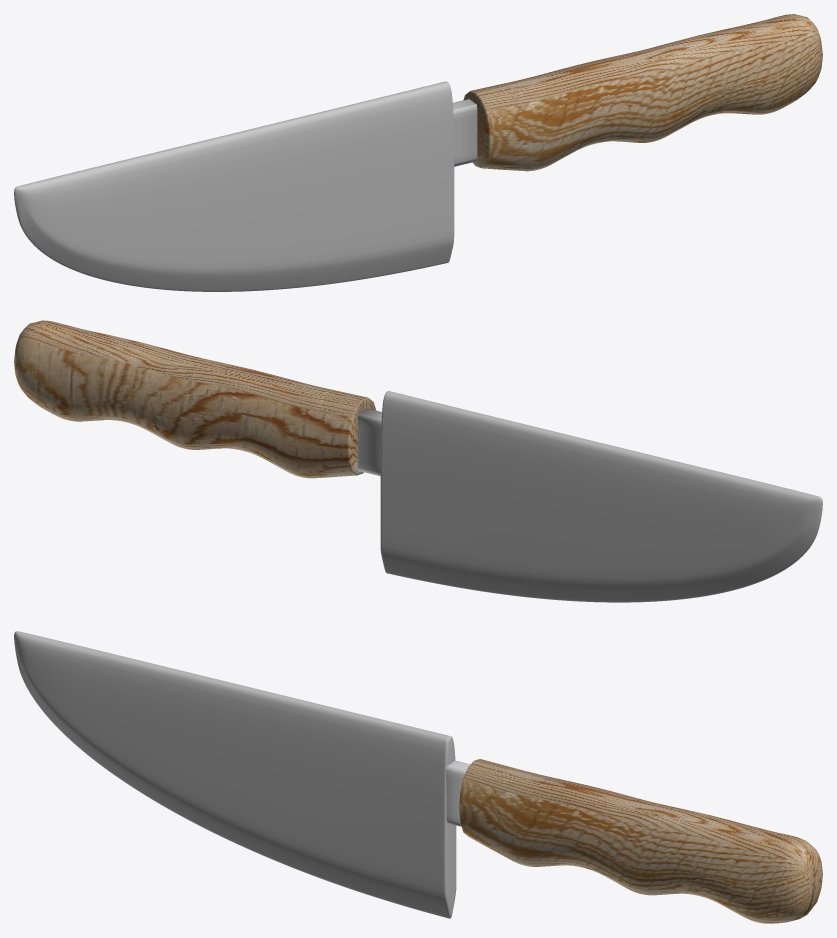
Rendered from knife.fbx.
3 renders of one model, top to bottom at view 1: azimuth 30°, elevation 25°; view 2: azimuth 150°, elevation 25°; view 3: azimuth 330°, elevation 25°, orthographic.
Parts seen in each view (by area): view 1: Cube; view 2: Cube; view 3: Cube.
Boxes of the visible parts, x1=… form: Cube: x1=14, y1=14, x2=822, y2=291; Cube: x1=14, y1=320, x2=822, y2=602; Cube: x1=14, y1=631, x2=822, y2=923.
Size of the model in its own units: 434 by 93.55 by 27.65.
Materials: 2 (1 with a texture image).
